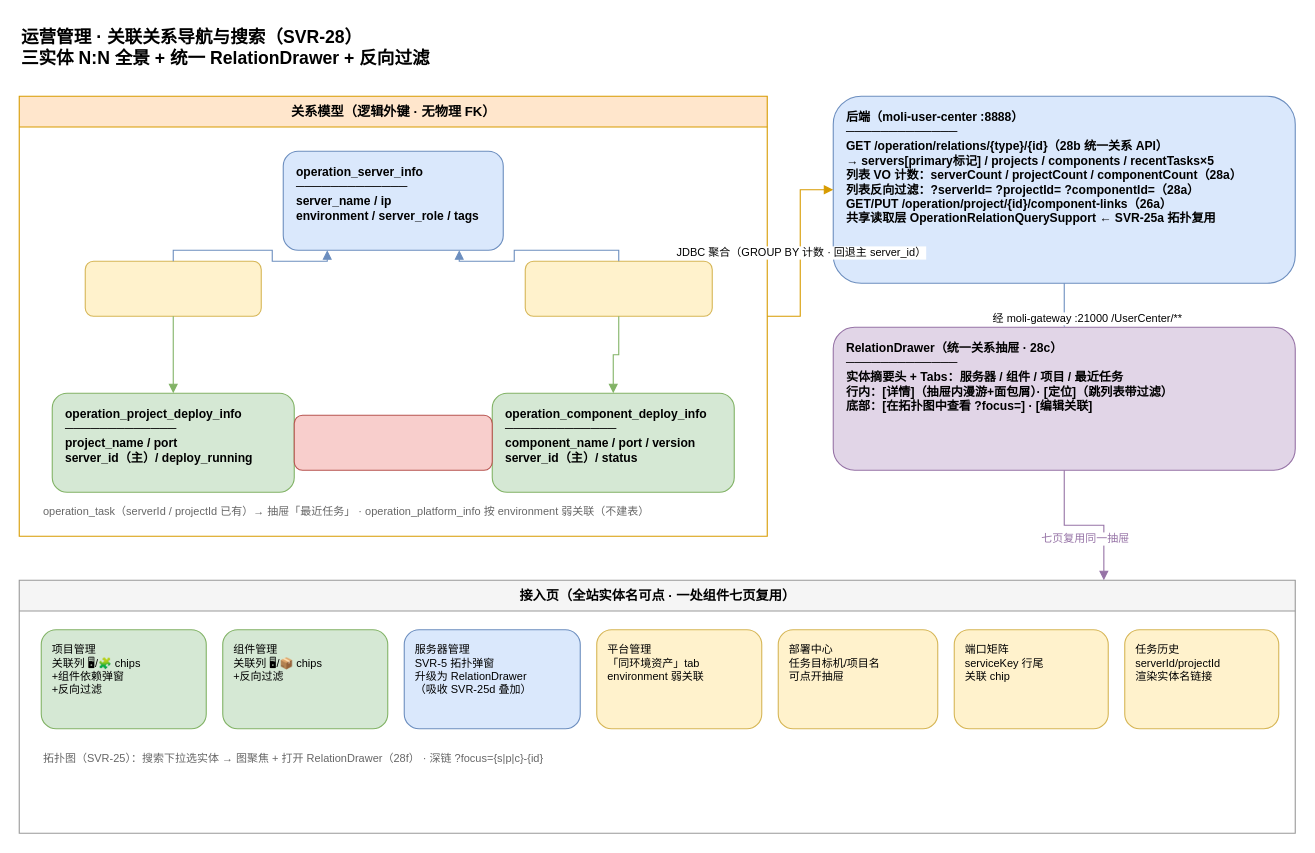
This 1315x853 diagram has some shape labels left out. The shapes that lost their labels are listed below. From the top down, each one's centre as x and y in pixels, then its label:
At (172,288): "operation_server_project （SVR-22 已有）".
At (618,288): "operation_server_component （SVR-22 已有）".
At (392,442): "operation_project_component （SVR-26 新表 · 本设计前置）".
